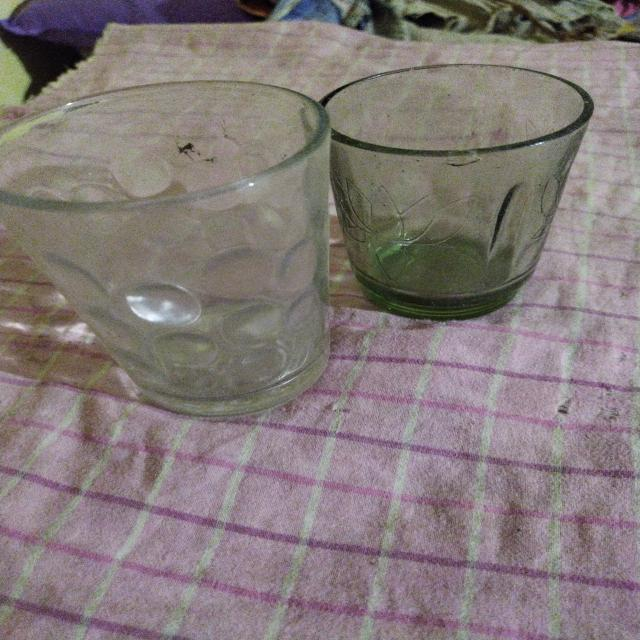Glass: (1, 75, 336, 420), (316, 60, 598, 322)
